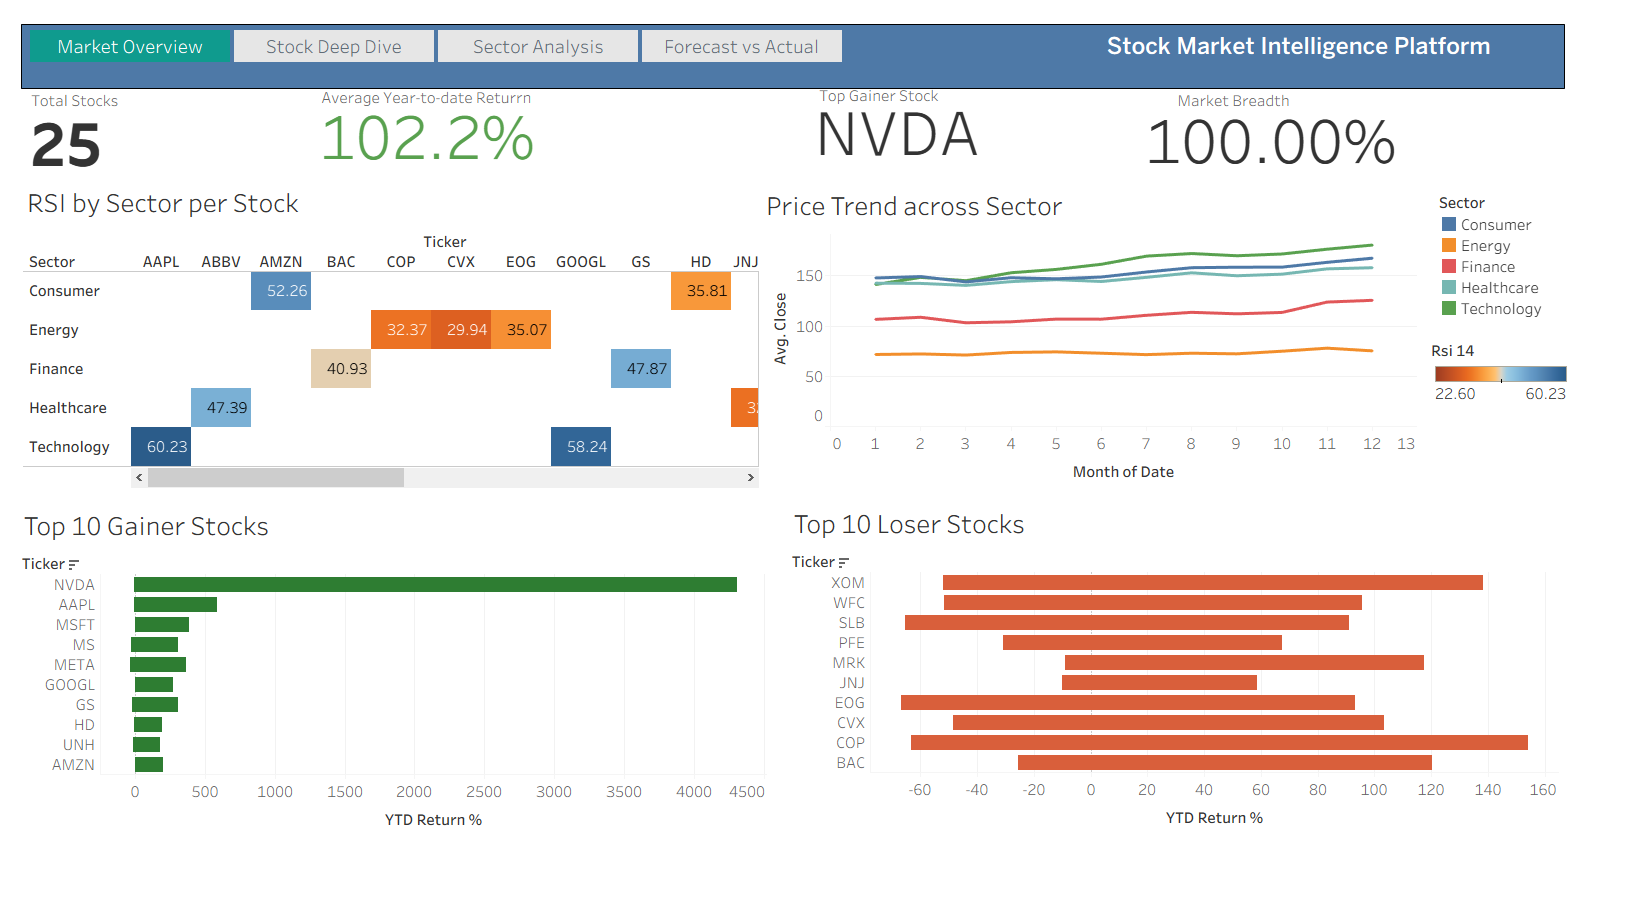

What the dashboard file says about the page in this screenshot:
{"tool":"tableau","page":{"name":"Market Overview","canvas":[1600,850],"ordinal":1},"visuals":[{"type":"worksheet","title":"NAV_BAR","mark":"Automatic","box":[27,10,1544,65]},{"type":"dashboard-object","box":[36,16,200,32]},{"type":"dashboard-object","box":[240,16,200,32]},{"type":"dashboard-object","box":[444,16,200,32]},{"type":"dashboard-object","box":[648,16,200,32]},{"type":"text","box":[1050,16,450,32]},{"type":"text","box":[822,66,126,30]},{"type":"text","box":[324,68,217,30]},{"type":"text","box":[34,71,100,30]},{"type":"text","box":[1180,71,120,30]},{"type":"worksheet","title":"KPI_TopGainer","mark":"Automatic","box":[789,75,352,85]},{"type":"worksheet","title":"KPI_AvgYTDReturn","mark":"Automatic","box":[305,79,533,85]},{"type":"worksheet","title":"KPI_StocksTracked","mark":"Automatic","box":[32,87,214,89]},{"type":"worksheet","title":"KPI_MarketBreadth","mark":"Automatic","box":[1147,95,263,89]},{"type":"worksheet","title":"CH_RSIHeatmap","mark":"Square","rows":["Sector"],"cols":["Ticker"],"box":[29,167,736,321]},{"type":"worksheet","title":"CH_PriceTrend","mark":"Automatic","rows":["Close"],"cols":["Date"],"box":[768,170,655,305]},{"type":"legend","title":"CH_PriceTrend","param":"[federated.0dalfoi0svi07s19630120ndhttj].[none:Sector:nk]","box":[1445,178,140,127]},{"type":"legend","title":"CH_RSIHeatmap","param":"[federated.0dalfoi0svi07s19630120ndhttj].[sum:RSI_14:qk]","box":[1437,326,140,88]},{"type":"worksheet","title":"CH_TopLosers","mark":"Bar","rows":["Ticker"],"cols":["Calculation_0691347519967234"],"box":[796,488,769,366]}]}

Visuals, with their boxes on the page's 1600x850 design canvas (x1, y1, x2, y2). These are canvas units, not pixel positions in the 1627x922 screenshot, which may show the page scaled, cropped or inside an application window:
"NAV_BAR" worksheet: (x1=27, y1=10, x2=1571, y2=75)
dashboard-object: (x1=36, y1=16, x2=236, y2=48)
dashboard-object: (x1=240, y1=16, x2=440, y2=48)
dashboard-object: (x1=444, y1=16, x2=644, y2=48)
dashboard-object: (x1=648, y1=16, x2=848, y2=48)
text: (x1=1050, y1=16, x2=1500, y2=48)
text: (x1=822, y1=66, x2=948, y2=96)
text: (x1=324, y1=68, x2=541, y2=98)
text: (x1=34, y1=71, x2=134, y2=101)
text: (x1=1180, y1=71, x2=1300, y2=101)
"KPI_TopGainer" worksheet: (x1=789, y1=75, x2=1141, y2=160)
"KPI_AvgYTDReturn" worksheet: (x1=305, y1=79, x2=838, y2=164)
"KPI_StocksTracked" worksheet: (x1=32, y1=87, x2=246, y2=176)
"KPI_MarketBreadth" worksheet: (x1=1147, y1=95, x2=1410, y2=184)
"CH_RSIHeatmap" worksheet (Square marks): (x1=29, y1=167, x2=765, y2=488)
"CH_PriceTrend" worksheet: (x1=768, y1=170, x2=1423, y2=475)
"CH_PriceTrend" legend: (x1=1445, y1=178, x2=1585, y2=305)
"CH_RSIHeatmap" legend: (x1=1437, y1=326, x2=1577, y2=414)
"CH_TopLosers" worksheet (Bar marks): (x1=796, y1=488, x2=1565, y2=854)
